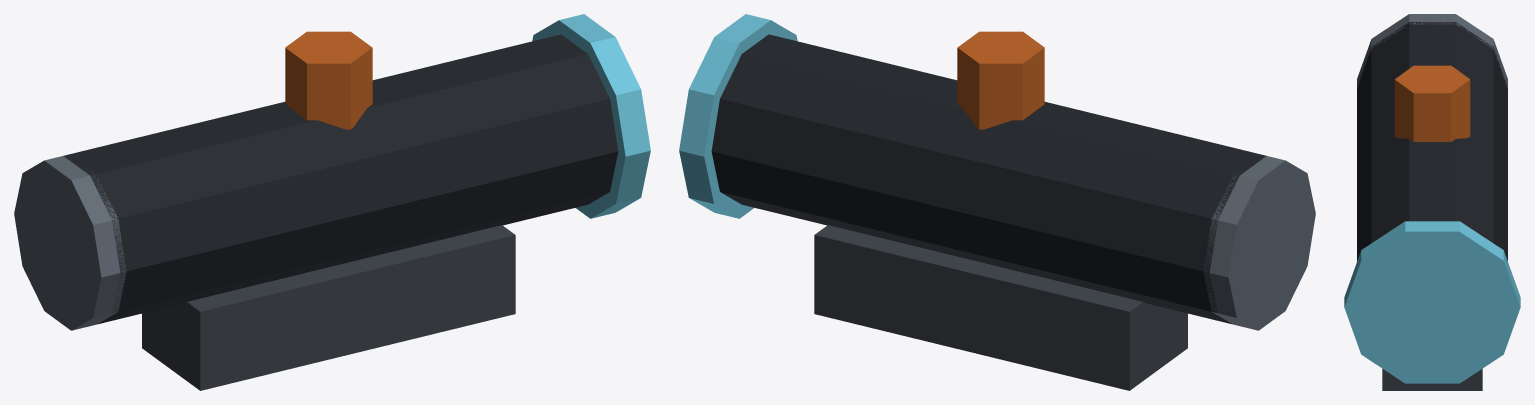
File: mod-scope.glb
3 renders of one model, left to right at view 1: azimuth 30°, elevation 25°; view 2: azimuth 150°, elevation 25°; view 3: azimuth 270°, elevation 25°, orthographic. The views are drawn at different scales.
Visible parts, largest first — view 1: m; view 2: m; view 3: m.
Boxes of the visible parts, box(x1,y1,x2,y2) form: m: box(14, 14, 650, 390); m: box(679, 14, 1315, 390); m: box(1344, 14, 1520, 390).
Size of the model in its own units: 0.08 by 0.04 by 0.026.
